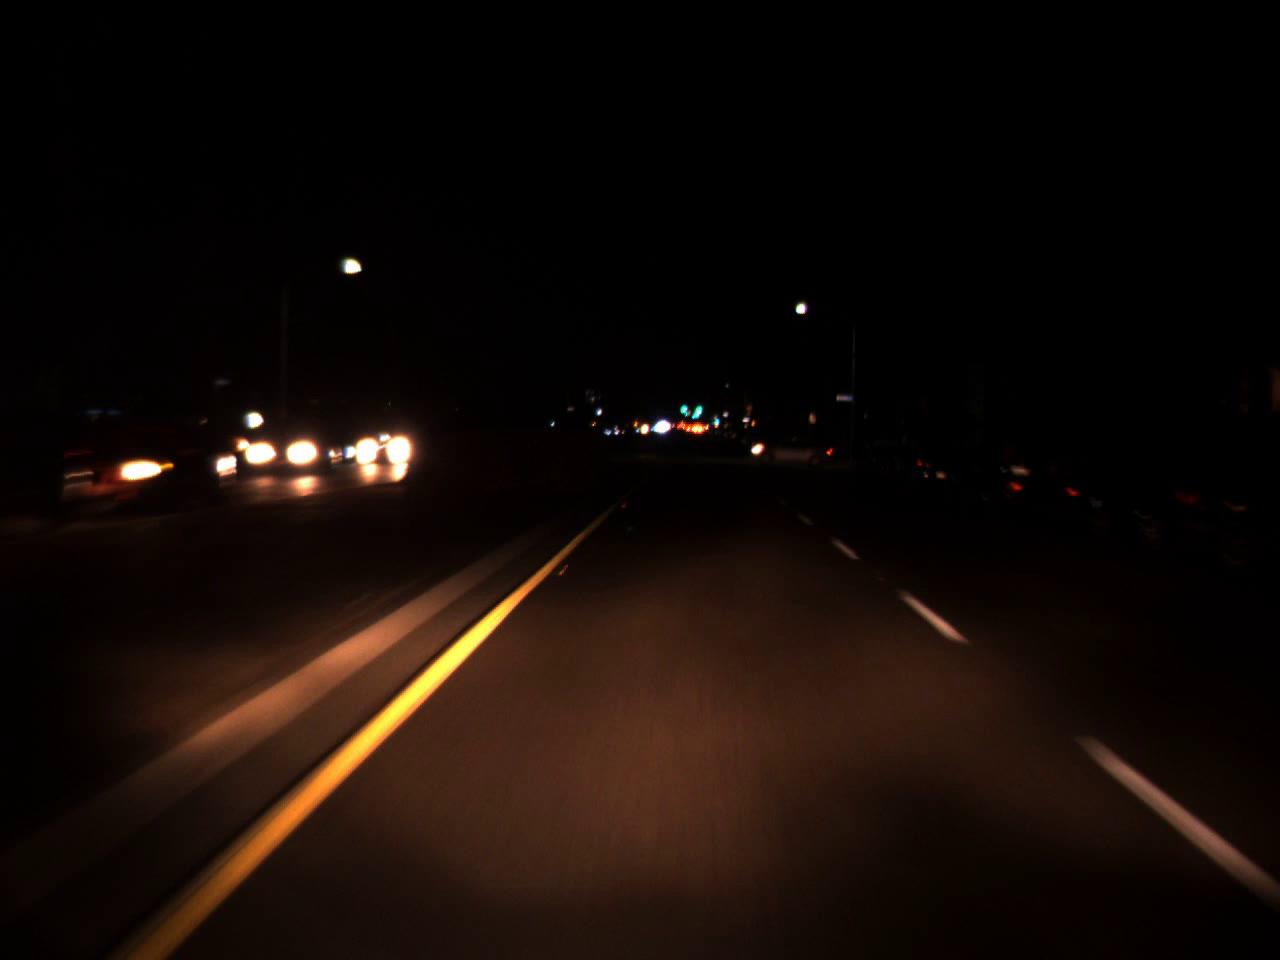go: (687, 390, 705, 423), (678, 391, 688, 421), (711, 411, 721, 429), (548, 416, 555, 428)
